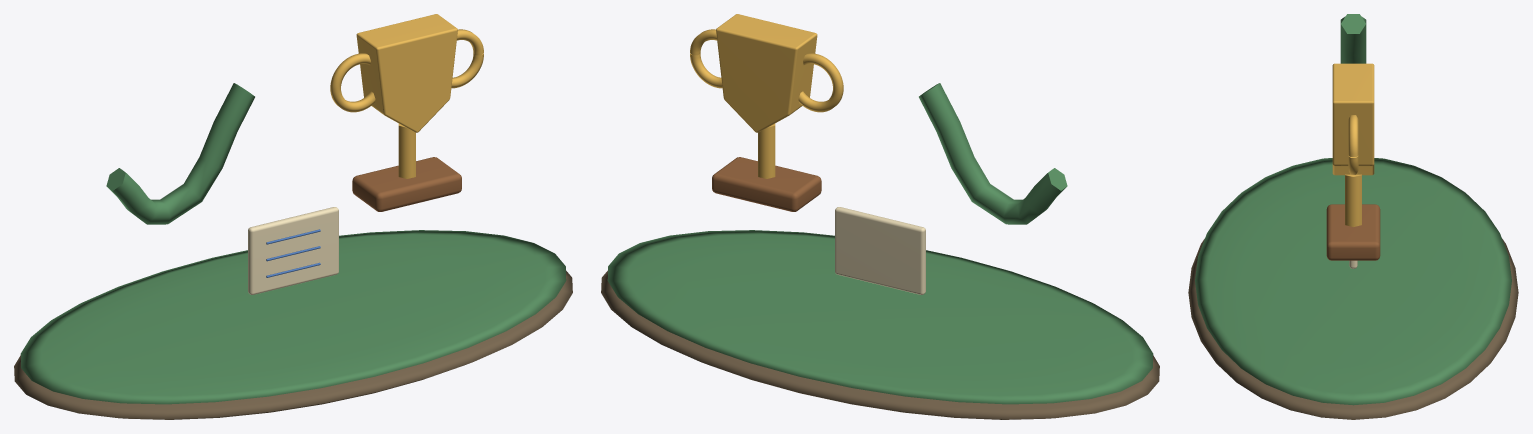
File: complete-first-completed-success.glb
The picture shows the model from 3 angles, left to right: view 1: azimuth 30°, elevation 25°; view 2: azimuth 150°, elevation 25°; view 3: azimuth 270°, elevation 25°; orthographic projection. The views are drawn at different scales.
Parts seen in each view (by area): view 1: complete-first-completed-success_surface_01, complete-first-completed-success_surface_02, complete-first-completed-success_surface_00, complete-first-completed-success_surface_04, complete-first-completed-success_surface_03, complete-first-completed-success_surface_05; view 2: complete-first-completed-success_surface_01, complete-first-completed-success_surface_02, complete-first-completed-success_surface_00, complete-first-completed-success_surface_04, complete-first-completed-success_surface_03; view 3: complete-first-completed-success_surface_01, complete-first-completed-success_surface_00, complete-first-completed-success_surface_02, complete-first-completed-success_surface_03.
Part boxes in pixels (x1,y1,x2,y2): complete-first-completed-success_surface_01: [20, 83, 566, 404]; complete-first-completed-success_surface_02: [330, 14, 483, 178]; complete-first-completed-success_surface_00: [14, 270, 572, 419]; complete-first-completed-success_surface_04: [248, 207, 338, 294]; complete-first-completed-success_surface_03: [352, 157, 461, 211]; complete-first-completed-success_surface_05: [266, 229, 320, 277]; complete-first-completed-success_surface_01: [607, 83, 1153, 404]; complete-first-completed-success_surface_02: [690, 14, 843, 178]; complete-first-completed-success_surface_00: [601, 270, 1159, 419]; complete-first-completed-success_surface_04: [835, 207, 925, 294]; complete-first-completed-success_surface_03: [712, 157, 821, 211]; complete-first-completed-success_surface_01: [1195, 14, 1511, 405]; complete-first-completed-success_surface_00: [1188, 239, 1518, 419]; complete-first-completed-success_surface_02: [1332, 63, 1374, 226]; complete-first-completed-success_surface_03: [1326, 204, 1380, 260].
Size of the model in its own units: 4.56 by 2.34 by 2.5.
